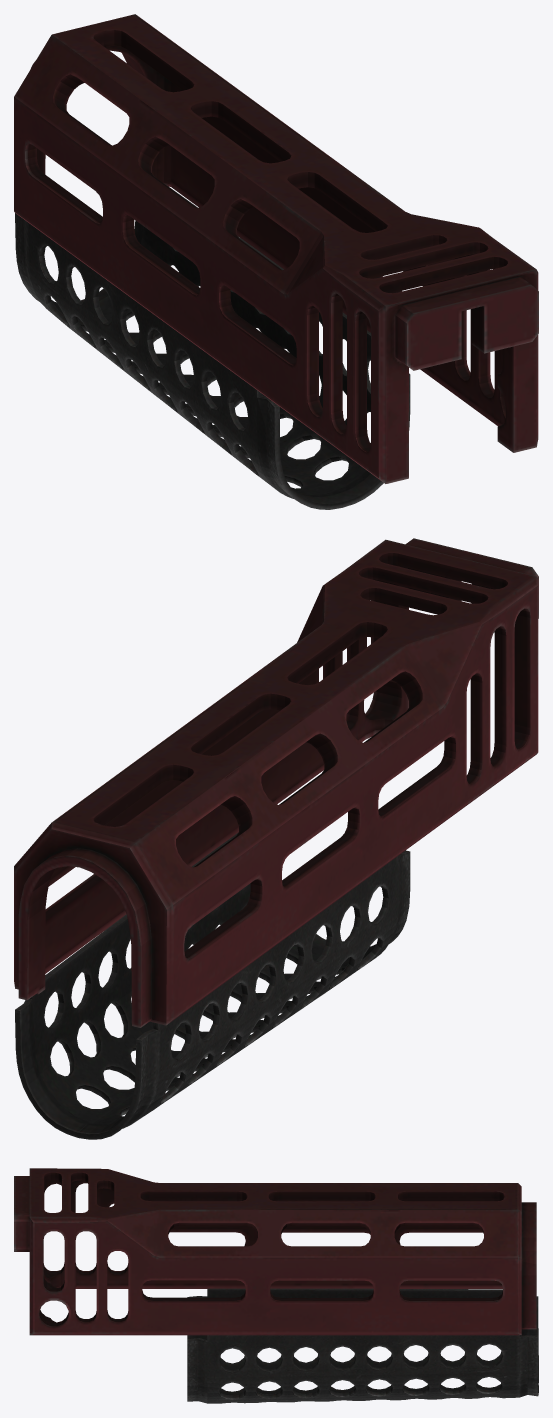
The picture shows the model from 3 angles, top to bottom: view 1: azimuth 30°, elevation 25°; view 2: azimuth 150°, elevation 25°; view 3: azimuth 270°, elevation 25°; orthographic projection. The views are drawn at different scales.
Parts seen in each view (by area): view 1: TW_5d4aaa54a4b9365392071170_PZ_Import; view 2: TW_5d4aaa54a4b9365392071170_PZ_Import; view 3: TW_5d4aaa54a4b9365392071170_PZ_Import.
Part boxes in pixels (<box>): TW_5d4aaa54a4b9365392071170_PZ_Import: <box>14,14,538,509</box>; TW_5d4aaa54a4b9365392071170_PZ_Import: <box>14,538,538,1139</box>; TW_5d4aaa54a4b9365392071170_PZ_Import: <box>14,1168,538,1403</box>.
Size of the model in its own units: 0.0221 by 0.0949 by 0.041.
1 material, 1 textured.
